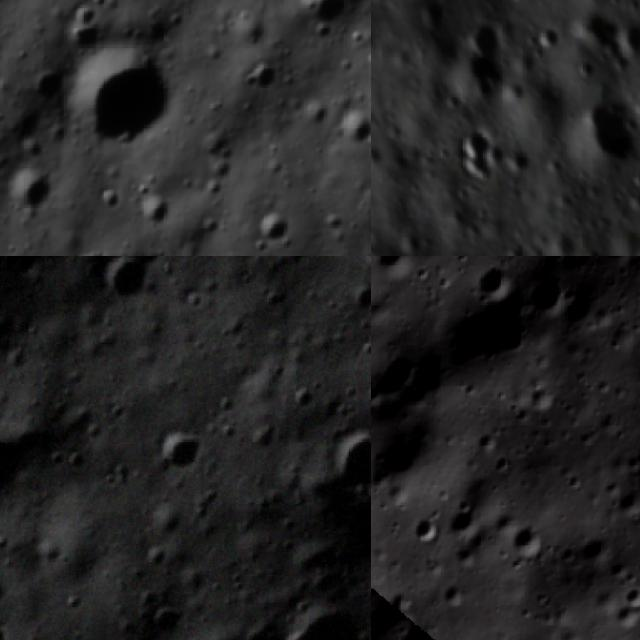crater: (51, 27, 184, 169), (135, 409, 216, 496), (263, 581, 371, 640), (0, 408, 46, 534), (311, 414, 371, 507), (371, 335, 428, 427), (580, 88, 640, 169), (94, 256, 157, 315), (0, 162, 56, 228), (371, 580, 431, 640), (523, 265, 579, 325), (252, 199, 306, 256), (137, 180, 186, 239), (471, 256, 522, 309), (140, 593, 197, 640), (505, 516, 553, 564), (329, 102, 371, 156), (442, 499, 488, 546), (24, 64, 68, 112), (575, 528, 618, 572), (371, 256, 422, 290), (455, 125, 487, 178), (407, 512, 448, 552), (463, 18, 507, 54), (608, 482, 640, 527), (525, 383, 561, 420), (472, 424, 503, 462), (438, 576, 472, 610), (588, 300, 621, 334), (610, 598, 640, 635), (116, 256, 176, 273), (612, 19, 640, 53), (528, 28, 562, 54), (0, 607, 23, 640), (617, 580, 640, 613), (600, 256, 640, 270), (510, 148, 533, 172), (66, 243, 108, 256), (486, 141, 506, 162), (556, 256, 593, 267)
